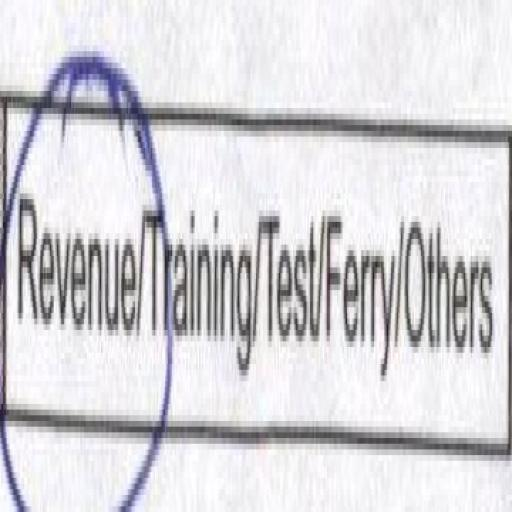check: (2, 23, 140, 512)
